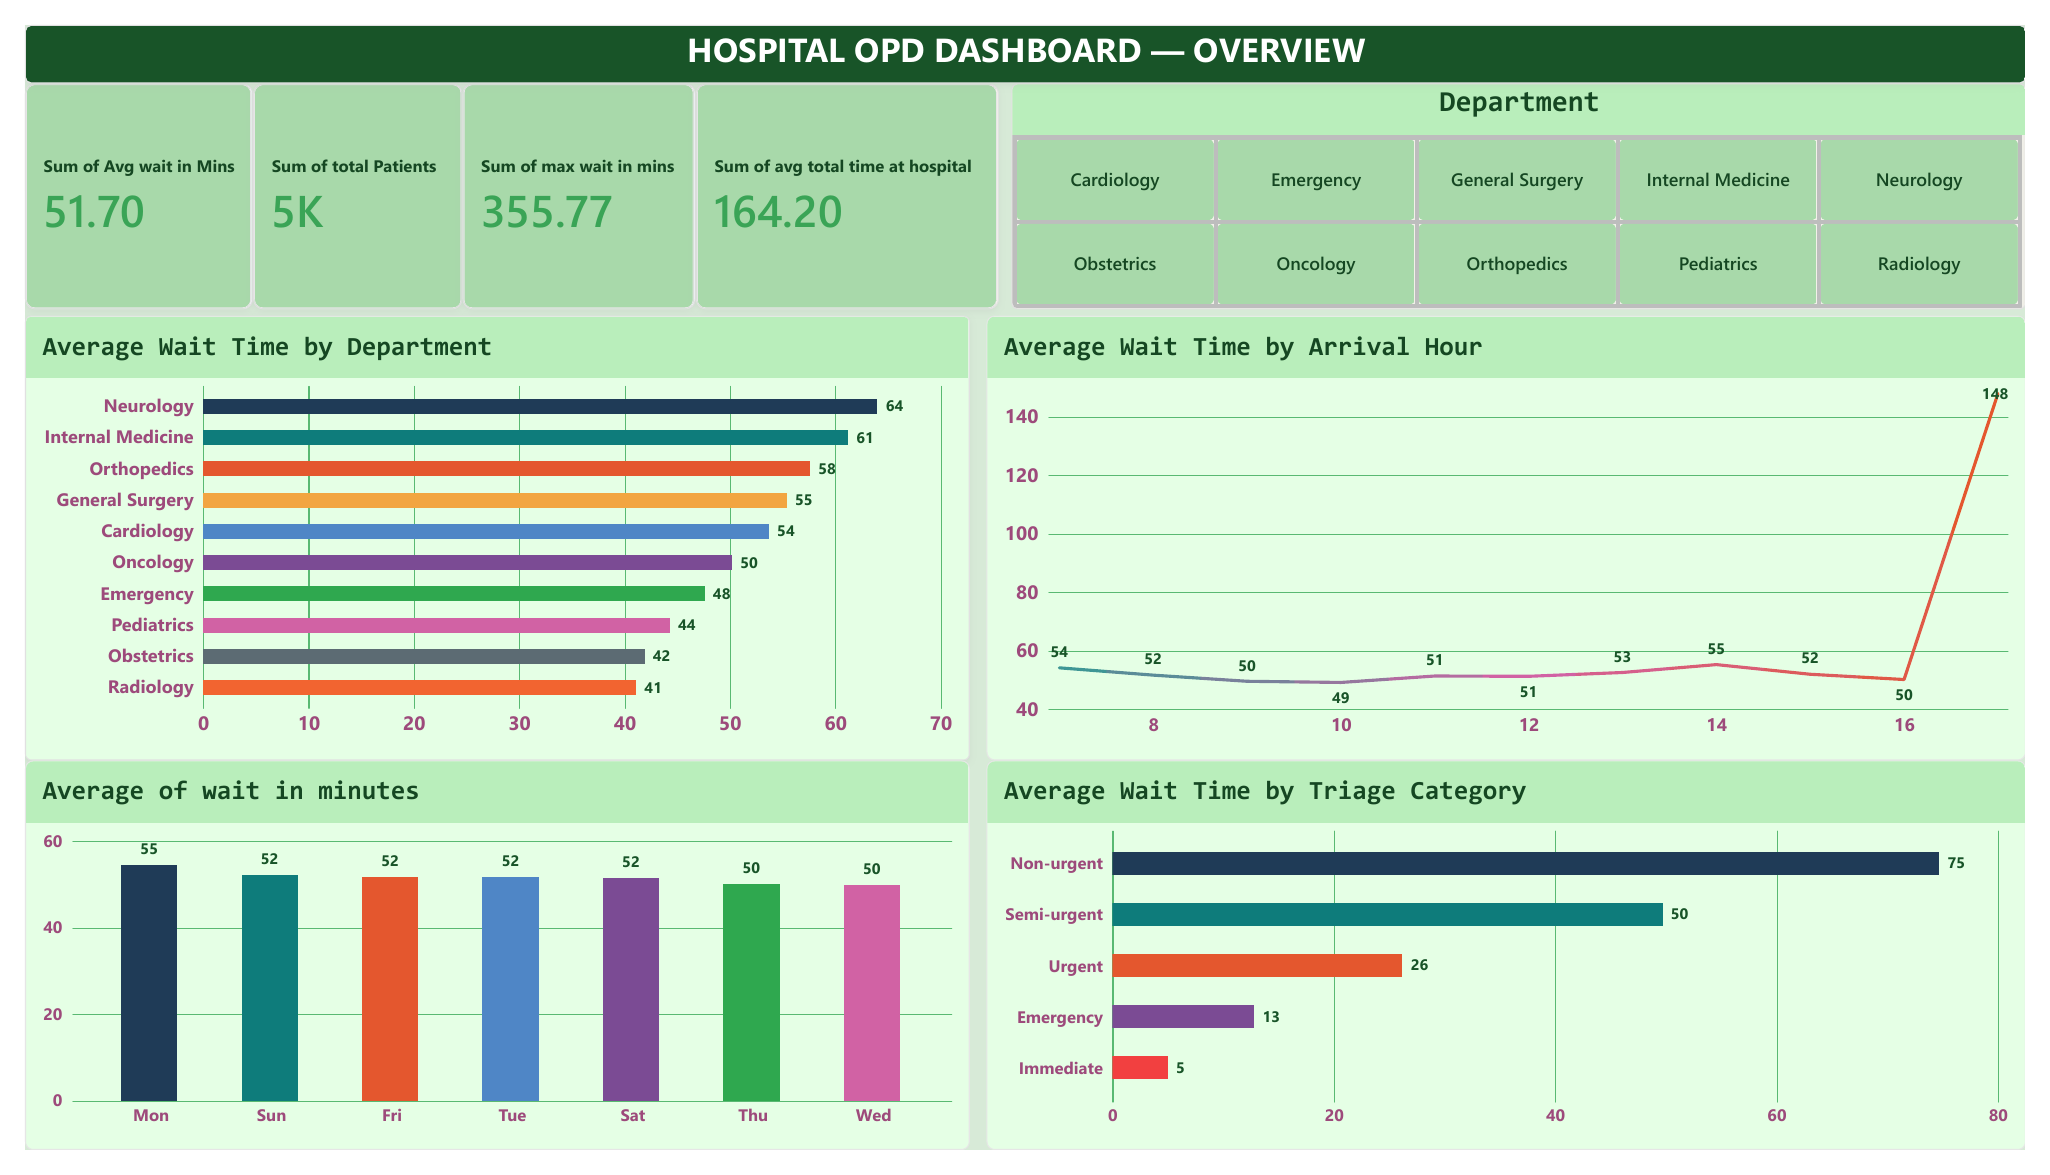

Layout of this report page (visuals, bound fields, positions):
{"tool":"powerbi","page":{"name":"DASHBOARD OVERVIEW","canvas":[1920,1080],"ordinal":0},"visuals":[{"type":"cardVisual","fields":{"Data":["Sum(overall_kpis.avg_wait_minutes)"]},"box":[0,56.4,218.7,217],"z":0},{"type":"cardVisual","fields":{"Data":["Sum(overall_kpis.total_patients)"]},"box":[218.7,56.4,201.6,217],"z":1000},{"type":"cardVisual","fields":{"Data":["Sum(overall_kpis.max_wait_minutes)"]},"box":[420.4,56.4,223.9,217],"z":2000},{"type":"cardVisual","fields":{"Data":["Sum(overall_kpis.avg_total_time_in_hospital)"]},"box":[644.2,56.4,290.5,217],"z":3000},{"type":"clusteredBarChart","title":"Average Wait Time by Department","fields":{"Category":["department_summary.Department"],"Y":["Sum(department_summary.avg_wait_minutes)"]},"box":[0,278.5,907.4,427.2],"z":4000},{"type":"lineChart","title":"Average Wait Time by Arrival Hour","fields":{"Category":["hourly_summary.ArrivalHour"],"Y":["Avg(hourly_summary.avg_wait_minutes)"]},"box":[922.8,278.5,998,427.2],"z":5000},{"type":"clusteredBarChart","title":"Average Wait Time by Triage Category","fields":{"Category":["triage_summary.TriageCategory"],"Y":["Sum(triage_summary.avg_wait_minutes)"]},"box":[922.8,705.8,998,374.2],"z":6000},{"type":"clusteredColumnChart","title":"Average of wait in minutes","fields":{"Category":["dayofweek_summary.DayOfWeek"],"Y":["Avg(dayofweek_summary.avg_wait_minutes)"]},"box":[0,705.8,907.4,374.2],"z":7000},{"type":"advancedSlicerVisual","fields":{"Values":["department_summary.Department"]},"box":[946.7,56.4,974.1,217],"z":8000},{"type":"textbox","title":"HOSPITAL OPD DASHBOARD — OVERVIEW","box":[0,0,1920.8,56.4],"z":9000}]}

Visuals, with their boxes in screenshot pixels (x1, y1, x2, y2), scaled from the page's 1920x1080 canvas onto the 2050x1175 screenshot:
cardVisual - Sum(overall_kpis.avg_wait_minutes): Rect(0, 61, 234, 297)
cardVisual - Sum(overall_kpis.total_patients): Rect(234, 61, 449, 297)
cardVisual - Sum(overall_kpis.max_wait_minutes): Rect(449, 61, 688, 297)
cardVisual - Sum(overall_kpis.avg_total_time_in_hospital): Rect(688, 61, 998, 297)
"Average Wait Time by Department" clusteredBarChart: Rect(0, 303, 969, 768)
"Average Wait Time by Arrival Hour" lineChart: Rect(985, 303, 2049, 768)
"Average Wait Time by Triage Category" clusteredBarChart: Rect(985, 768, 2049, 1174)
"Average of wait in minutes" clusteredColumnChart: Rect(0, 768, 969, 1174)
advancedSlicerVisual - department_summary.Department: Rect(1011, 61, 2049, 297)
"HOSPITAL OPD DASHBOARD — OVERVIEW" textbox: Rect(0, 0, 2049, 61)
